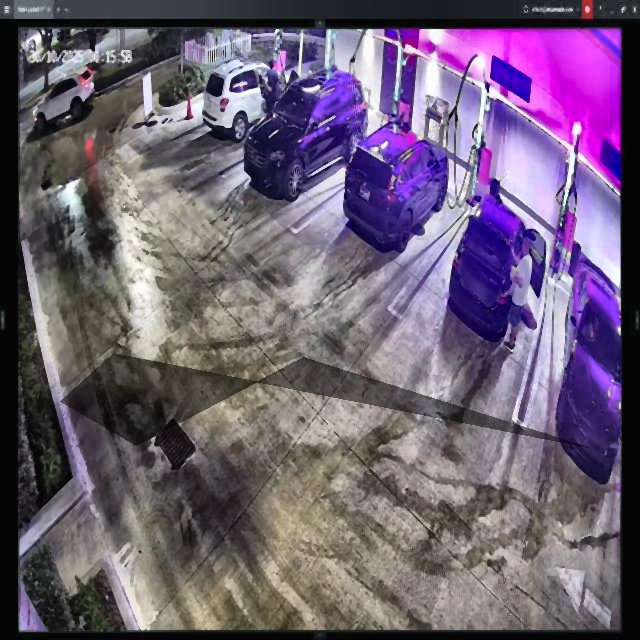Car: (246, 67, 366, 200), (451, 191, 545, 343), (344, 122, 450, 249)
